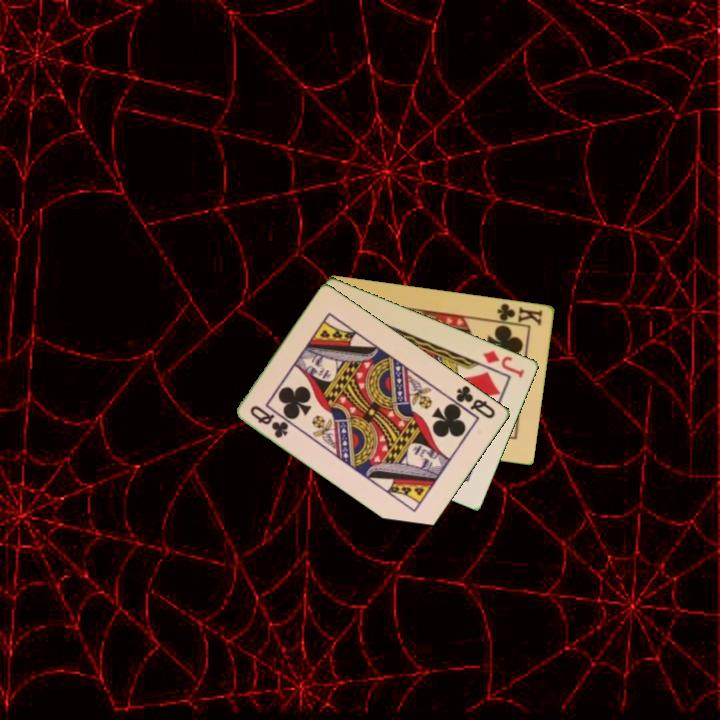Jd: (480, 347, 527, 380)
Kc: (490, 299, 546, 328)
Qc: (447, 382, 499, 422), (247, 402, 292, 441)
